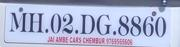0: (49, 11, 62, 35), (156, 15, 168, 39)
2: (63, 12, 75, 35)
6: (143, 15, 155, 37)
8: (117, 14, 130, 37), (130, 14, 142, 38)
D: (80, 12, 97, 35)
G: (96, 13, 112, 36)
H: (29, 11, 45, 34)
M: (9, 10, 28, 35)
